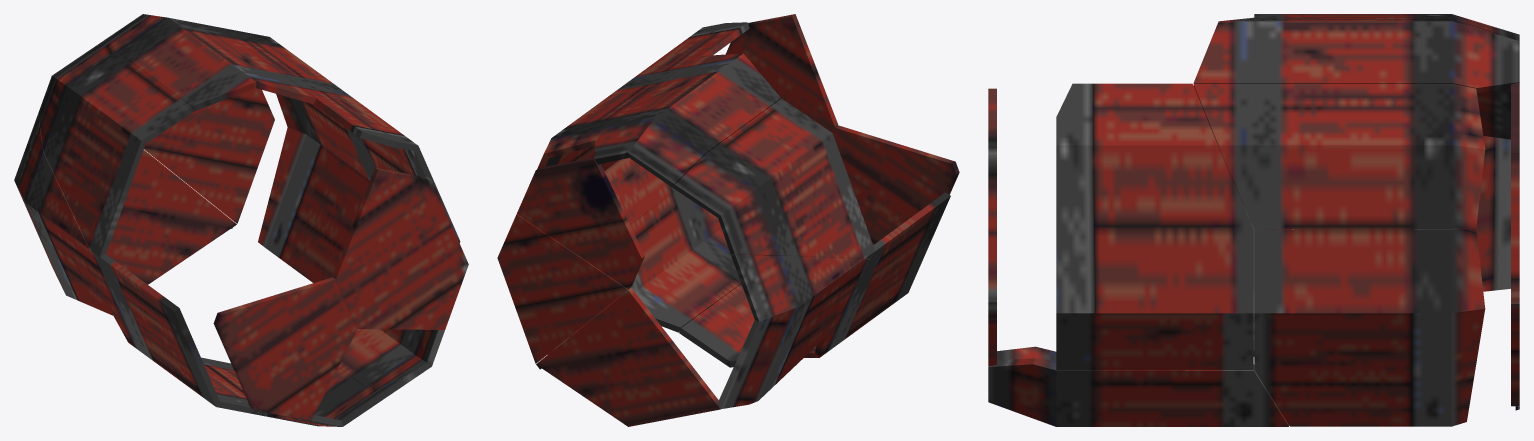
File: barrel_des.fbx
3 renders of one model, left to right at view 1: azimuth 30°, elevation 25°; view 2: azimuth 150°, elevation 25°; view 3: azimuth 270°, elevation 25°, orthographic. The views are drawn at different scales.
Parts seen in each view (by area): view 1: barrel_cell.001, barrel_cell.008, barrel_cell.014, barrel_cell.012, barrel_cell.003, barrel_cell.005, barrel_cell.007, barrel_cell, barrel_cell.015, barrel_cell.013, barrel_cell.002, barrel_cell.011 (+2 smaller); view 2: barrel_cell.001, barrel_cell.007, barrel_cell.003, barrel_cell.015, barrel_cell.013, barrel_cell.005, barrel_cell.004, barrel_cell.014, barrel_cell, barrel_cell.008, barrel_cell.002, barrel_cell.006 (+1 smaller); view 3: barrel_cell.002, barrel_cell.012, barrel_cell.006, barrel_cell.003, barrel_cell.013, barrel_cell.015, barrel_cell.008, barrel_cell.005, barrel_cell.004, barrel_cell.001, barrel_cell.011.
Boxes of the visible parts, box(x1,y1,x2,y2) form: barrel_cell.001: box(38, 45, 193, 260); barrel_cell.008: box(333, 167, 468, 329); barrel_cell.014: box(213, 277, 357, 420); barrel_cell.012: box(258, 94, 372, 282); barrel_cell.003: box(98, 14, 315, 110); barrel_cell.005: box(144, 88, 274, 223); barrel_cell.007: box(106, 149, 236, 284); barrel_cell: box(99, 254, 267, 416); barrel_cell.015: box(14, 115, 113, 315); barrel_cell.013: box(338, 329, 444, 396); barrel_cell.002: box(315, 98, 460, 242); barrel_cell.011: box(201, 357, 386, 426); barrel_cell.001: box(674, 98, 874, 258); barrel_cell.007: box(536, 288, 720, 426); barrel_cell.003: box(594, 53, 780, 187); barrel_cell.015: box(717, 255, 869, 408); barrel_cell.013: box(618, 190, 749, 332); barrel_cell.005: box(497, 214, 630, 363); barrel_cell.004: box(517, 157, 644, 289); barrel_cell.014: box(833, 125, 959, 244); barrel_cell: box(804, 192, 950, 357); barrel_cell.008: box(725, 14, 838, 133); barrel_cell.002: box(601, 22, 749, 223); barrel_cell.006: box(537, 56, 700, 168); barrel_cell.002: box(1056, 83, 1253, 369); barrel_cell.012: box(1254, 229, 1485, 426); barrel_cell.006: box(1193, 83, 1485, 228); barrel_cell.003: box(1193, 17, 1519, 93); barrel_cell.013: box(988, 358, 1288, 426); barrel_cell.015: box(1294, 88, 1510, 291); barrel_cell.008: box(988, 88, 996, 366); barrel_cell.005: box(1511, 228, 1519, 405); barrel_cell.004: box(1511, 82, 1519, 227); barrel_cell.001: box(1254, 14, 1519, 37); barrel_cell.011: box(997, 346, 1056, 363).
Bounding box in the file's own units: 100 × 100 × 121.
